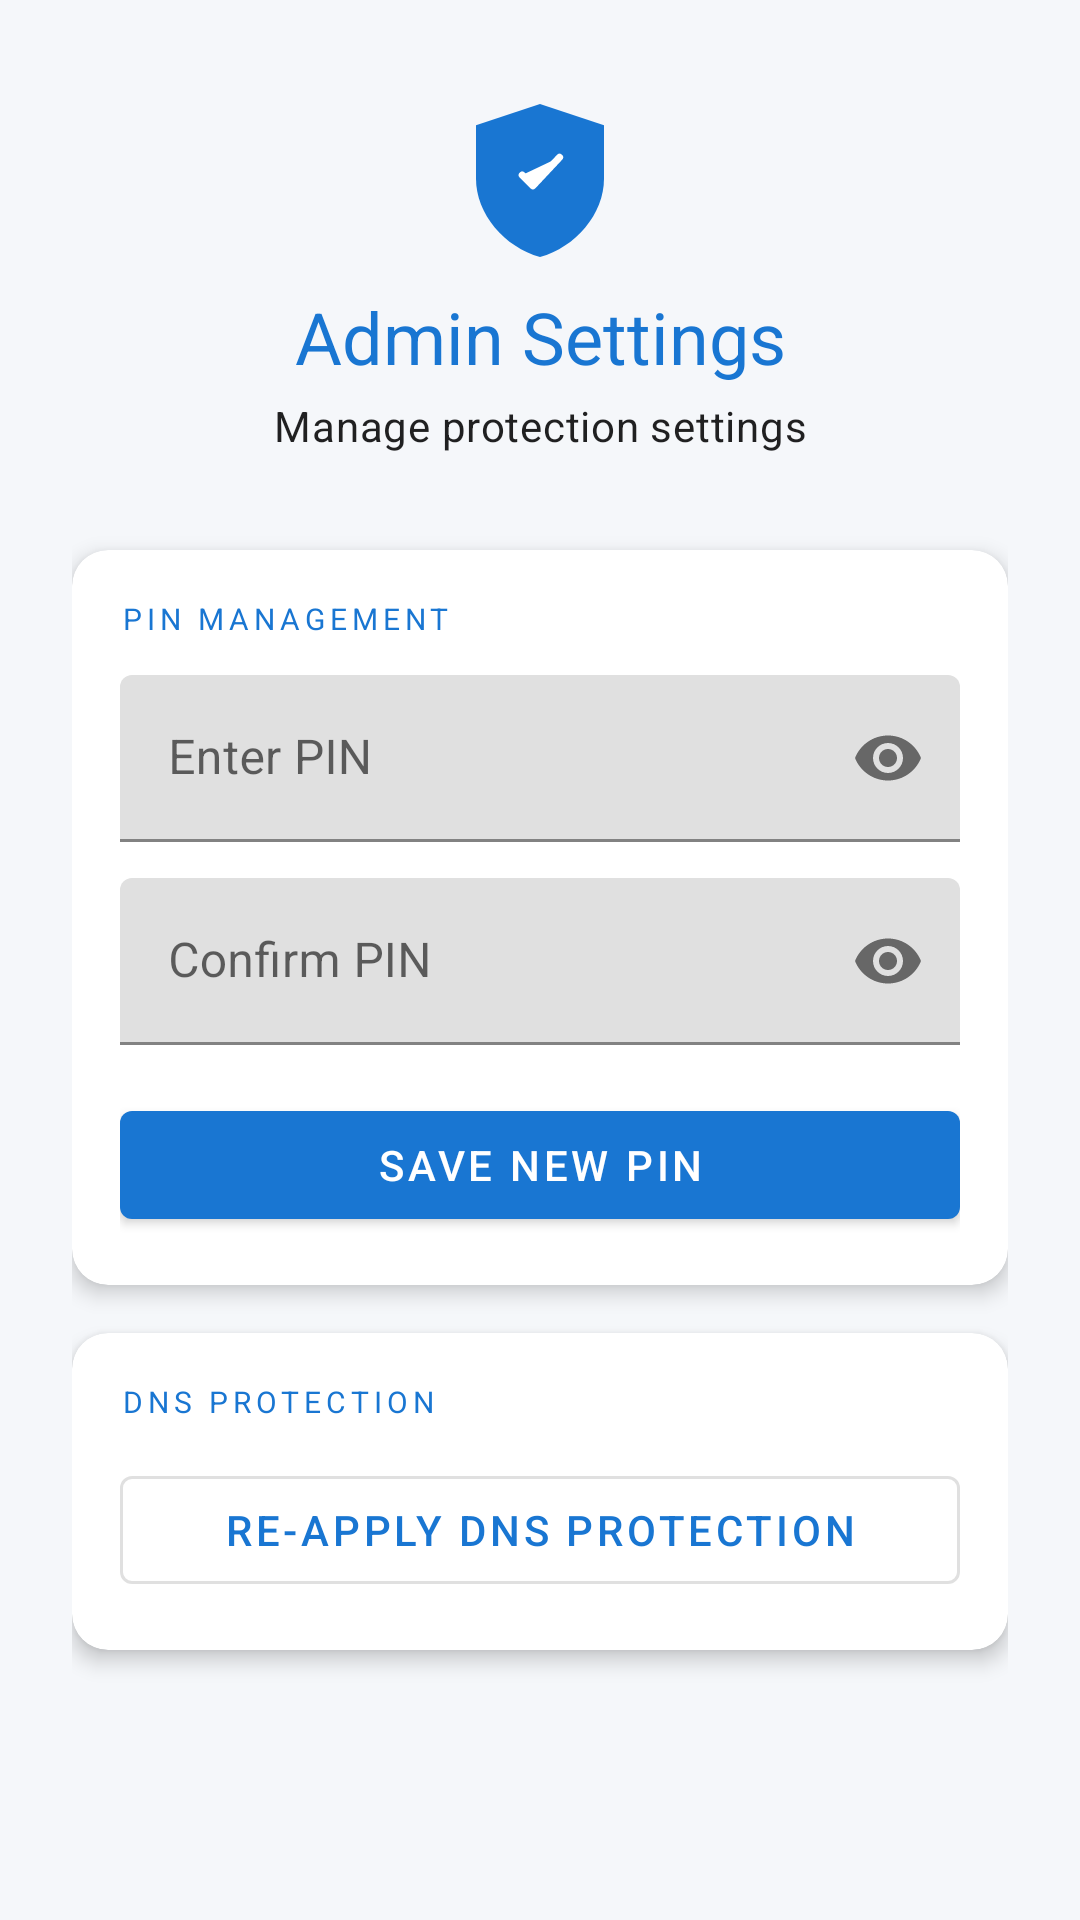

Point at icon controls on the screen. Image size 1080x1920, points as [x,y].
shield: [540,180]
